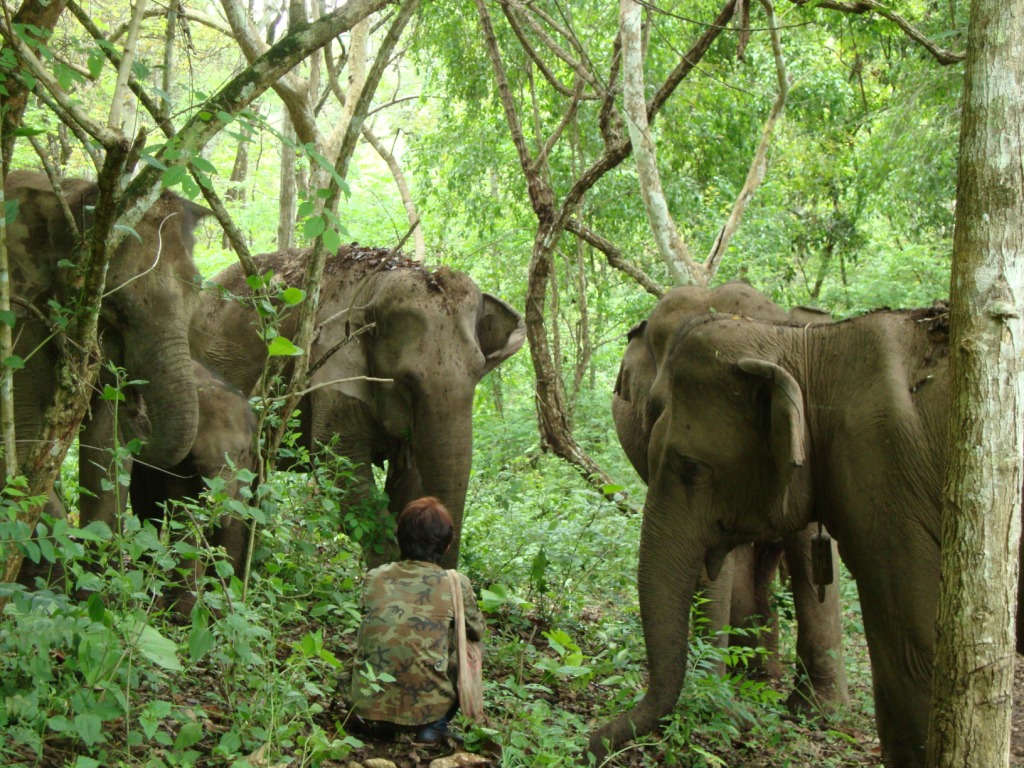Indian Elephant: (603, 314, 1016, 768), (193, 236, 572, 626), (4, 150, 210, 576)
